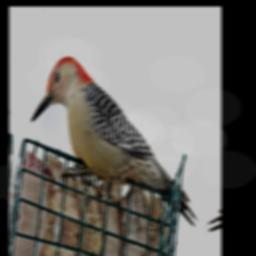Woodpecker: (23, 46, 213, 230)
